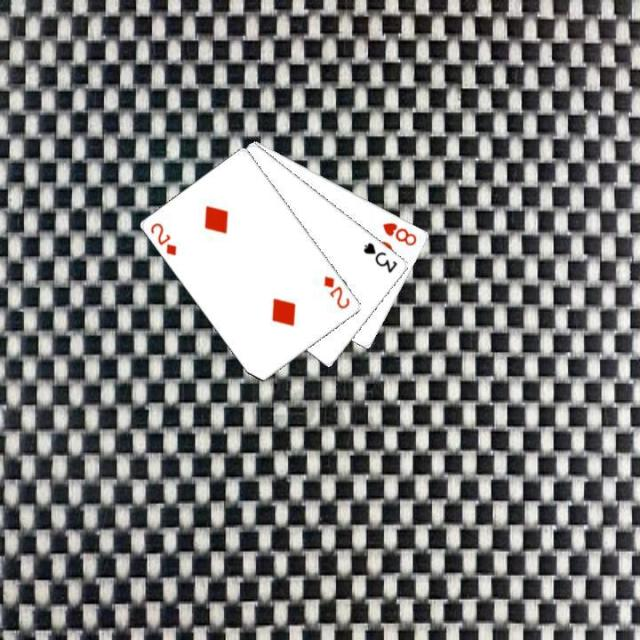2D: (146, 218, 178, 258), (320, 272, 352, 311)
3S: (359, 238, 399, 275)
8H: (378, 219, 418, 248)
